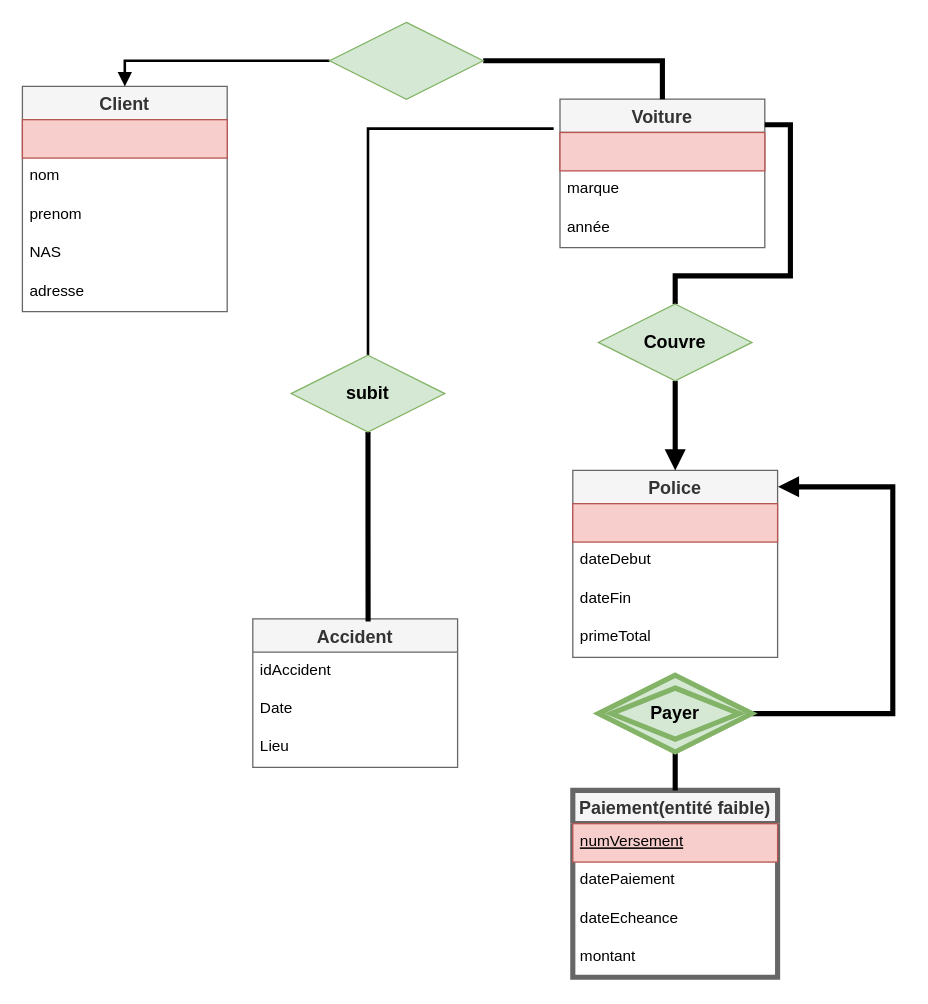
This 928x1004 diagram has some shape labels left out. Each missing label, with the centre of its shape:
"idClient" goes at point (124, 138).
"numPolice" goes at point (675, 522).
"numSerie" goes at point (662, 151).
"Possède" goes at point (405, 60).
